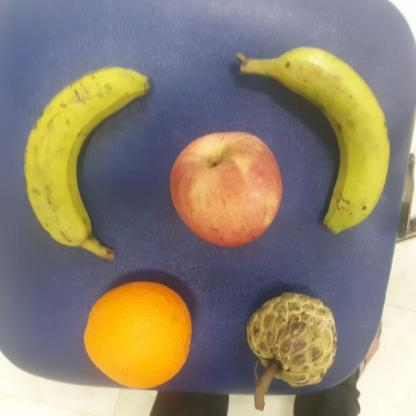annona: (246, 292, 345, 392)
apple: (165, 126, 288, 248)
banana: (20, 62, 168, 249), (284, 44, 398, 240)
orange: (83, 280, 198, 392)
